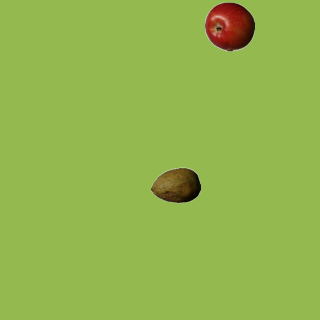Apple Braeburn: (204, 1, 254, 51)
Papaya: (150, 160, 200, 210)
